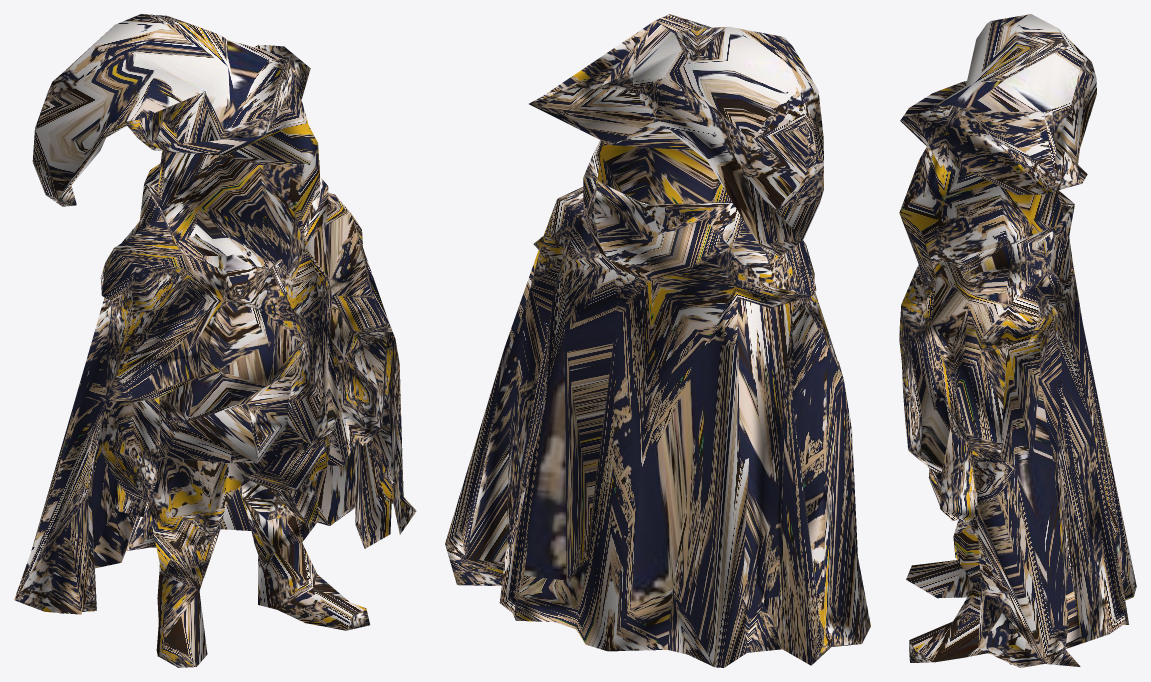
File: fantasy-lo.glb
3 renders of one model, left to right at view 1: azimuth 30°, elevation 25°; view 2: azimuth 150°, elevation 25°; view 3: azimuth 270°, elevation 25°, orthographic. The views are drawn at different scales.
Parts seen in each view (by area): view 1: tripo_node_a63b1a4e-f7c1-4798-99dc-cee17d0d9e12; view 2: tripo_node_a63b1a4e-f7c1-4798-99dc-cee17d0d9e12; view 3: tripo_node_a63b1a4e-f7c1-4798-99dc-cee17d0d9e12.
Part boxes in pixels (bbox=[...]): tripo_node_a63b1a4e-f7c1-4798-99dc-cee17d0d9e12: bbox=[14, 14, 416, 667]; tripo_node_a63b1a4e-f7c1-4798-99dc-cee17d0d9e12: bbox=[445, 14, 870, 667]; tripo_node_a63b1a4e-f7c1-4798-99dc-cee17d0d9e12: bbox=[899, 14, 1136, 667].
Size of the model in its own units: 0.6705 by 0.9769 by 0.3703.
Materials: 1 (1 with a texture image).
